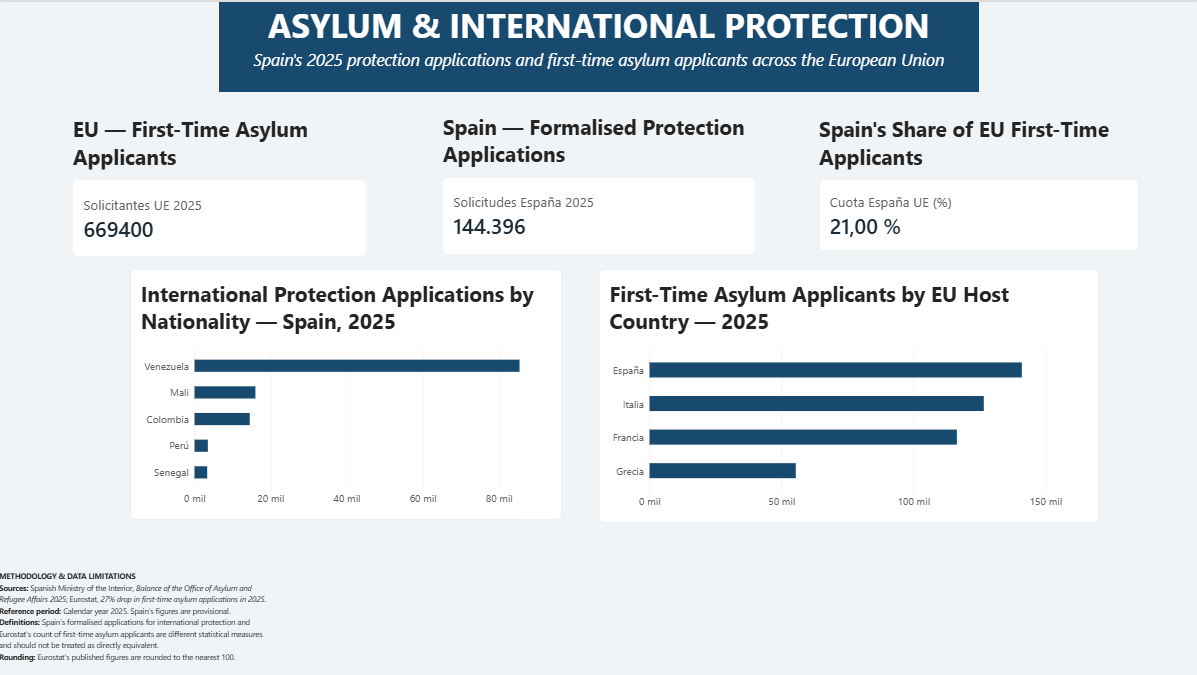

The dashboard page shown, as its layout file describes it:
{"tool":"powerbi","page":{"name":"Asylum & Protection","canvas":[1920,1080],"ordinal":2},"visuals":[{"type":"cardVisual","title":"Spain''s Share of EU First-Time Applicants","fields":{"Data":["Asilo_Espana_2025.Cuota España UE (%)"]},"box":[1312,180,512,218],"z":0},{"type":"cardVisual","title":"EU — First-Time Asylum Applicants","fields":{"Data":["Asilo_Espana_2025.Solicitantes UE 2025"]},"box":[118,180,470,228],"z":1000},{"type":"cardVisual","title":"Spain — Formalised Protection Applications","fields":{"Data":["Asilo_Espana_2025.Solicitudes España 2025"]},"box":[710,176,500,228],"z":2000},{"type":"clusteredBarChart","title":"International Protection Applications by Nationality — Spain, 2025","fields":{"Category":["Asilo_Espana_2025.Indicador"],"Y":["Sum(Asilo_Espana_2025.Valor)"]},"box":[210,428,690,400],"z":3000},{"type":"clusteredBarChart","title":"First-Time Asylum Applicants by EU Host Country — 2025","fields":{"Category":["Eurostat_Asilo_UE_2025.Indicador","Eurostat_Asilo_UE_2025.Bloque"],"Y":["Sum(Eurostat_Asilo_UE_2025.Valor)"]},"box":[960,428,800,405],"z":4000},{"type":"textbox","box":[0,908,432,172],"z":5000},{"type":"textbox","title":"ASYLUM & INTERNATIONAL PROTECTION","box":[352,0,1216,144],"z":5001}]}

Visuals, with their boxes in screenshot pixels (x1, y1, x2, y2), scaled from the page's 1920x1080 canvas onto the 1197x675 screenshot:
"Spain''s Share of EU First-Time Applicants" cardVisual: [818,112,1137,249]
"EU — First-Time Asylum Applicants" cardVisual: [74,112,367,255]
"Spain — Formalised Protection Applications" cardVisual: [443,110,754,252]
"International Protection Applications by Nationality — Spain, 2025" clusteredBarChart: [131,268,561,518]
"First-Time Asylum Applicants by EU Host Country — 2025" clusteredBarChart: [598,268,1097,521]
textbox: [0,568,269,674]
"ASYLUM & INTERNATIONAL PROTECTION" textbox: [219,0,978,90]
